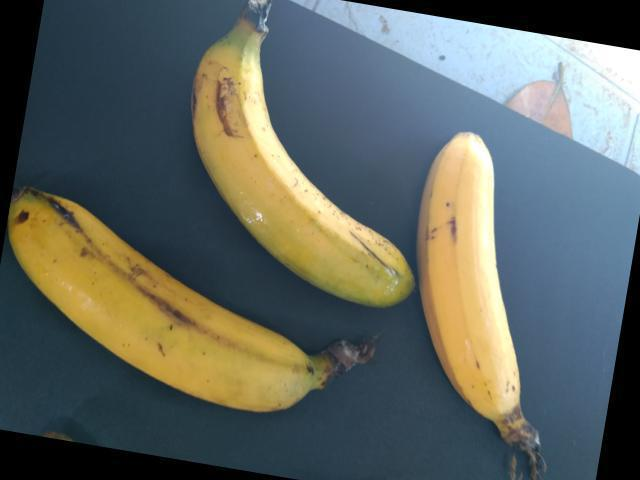freshripe: (377, 112, 595, 479)
ripe: (6, 189, 313, 424), (174, 0, 396, 313)
